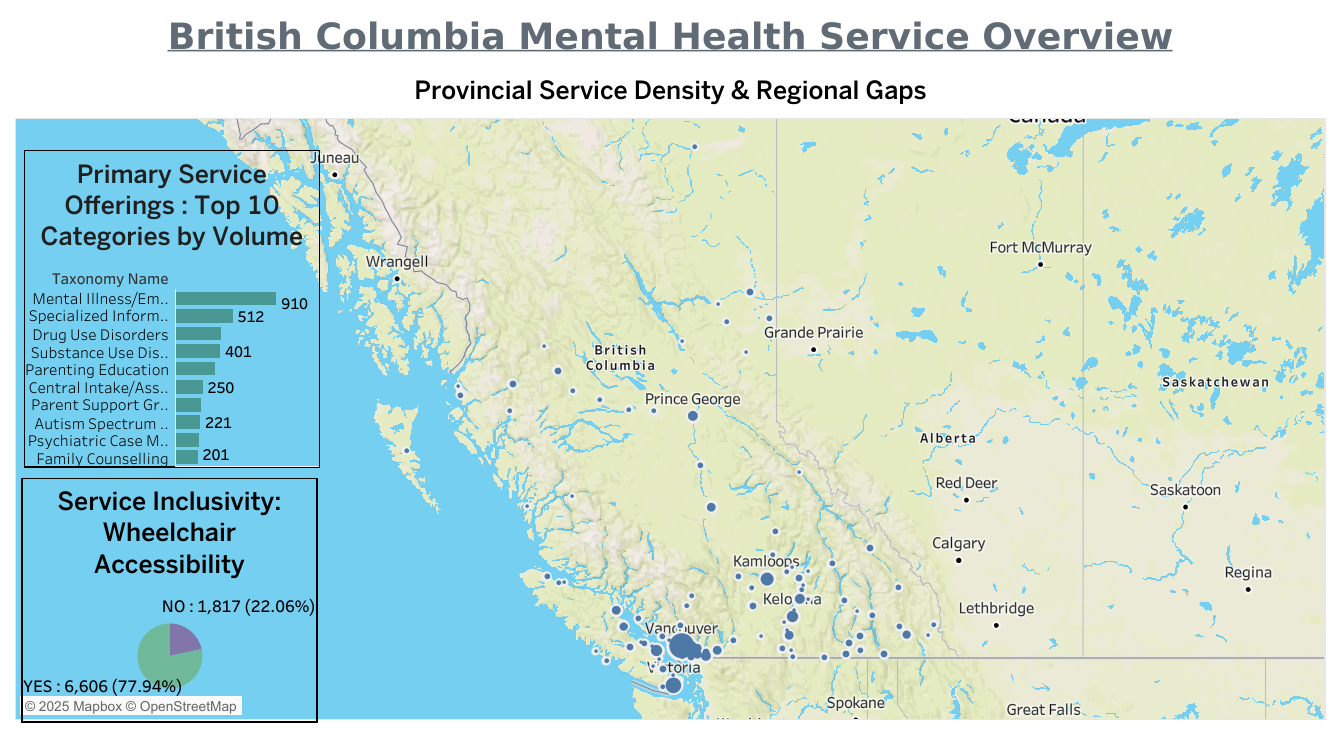

This screenshot's page, from the dashboard's own definition file:
{"tool":"tableau","page":{"name":"BC Mental Health Service Overview","canvas":[1000,1000],"units":"permille","ordinal":0},"visuals":[{"type":"title","box":[4.8,10,990.3,76.2]},{"type":"worksheet","title":"Service Locations","mark":"Automatic","box":[4.8,86.2,990.3,903.9]},{"type":"worksheet","title":"Primary Services","mark":"Automatic","rows":["TAXONOMY_NAME"],"cols":["SV_REFERENCE"],"box":[9.7,134.8,221.3,430.7]},{"type":"worksheet","title":"Accessibility Check","mark":"Pie","box":[11.7,605.5,220.9,333.3]}]}

Visuals, with their boxes on the dashboard's canvas, which has no fixed pixel size, in thousandths of its width and height (x1, y1, x2, y2). These are canvas units, not pixel positions in the 1340x734 screenshot, which may show the page scaled, cropped or inside an application window:
title: x1=5, y1=10, x2=995, y2=86
"Service Locations" worksheet: x1=5, y1=86, x2=995, y2=990
"Primary Services" worksheet: x1=10, y1=135, x2=231, y2=566
"Accessibility Check" worksheet (Pie marks): x1=12, y1=606, x2=233, y2=939
